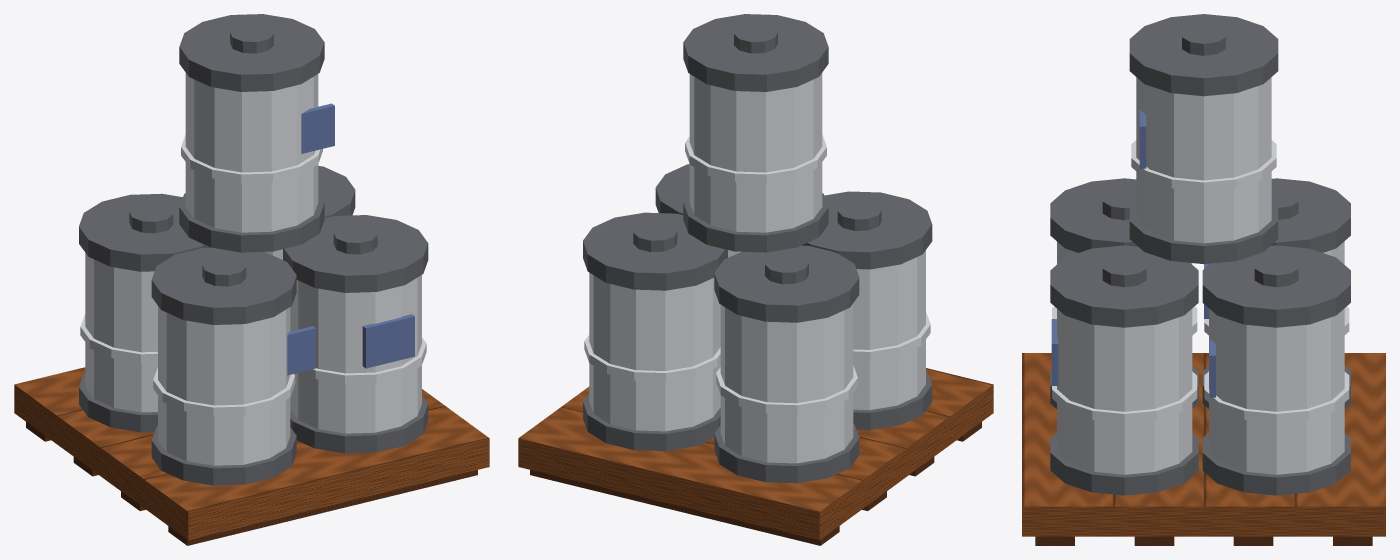
The model's file is keg_stack.glb.
3 renders of one model, left to right at view 1: azimuth 30°, elevation 25°; view 2: azimuth 150°, elevation 25°; view 3: azimuth 270°, elevation 25°, orthographic. The views are drawn at different scales.
Parts seen in each view (by area): view 1: keg-stack-steel, keg-stack-charcoal, keg-stack-timber, keg-stack-indigo, keg-stack-darkwood; view 2: keg-stack-steel, keg-stack-charcoal, keg-stack-timber, keg-stack-darkwood; view 3: keg-stack-steel, keg-stack-charcoal, keg-stack-timber, keg-stack-darkwood, keg-stack-indigo.
Boxes of the visible parts, box(x1,y1,x2,y2) form: keg-stack-steel: box(80, 73, 426, 465); keg-stack-charcoal: box(79, 14, 428, 485); keg-stack-timber: box(14, 367, 489, 540); keg-stack-indigo: box(287, 103, 414, 375); keg-stack-darkwood: box(26, 422, 477, 545); keg-stack-steel: box(584, 73, 930, 463); keg-stack-charcoal: box(583, 14, 932, 483); keg-stack-timber: box(518, 368, 993, 540); keg-stack-darkwood: box(530, 422, 981, 545); keg-stack-steel: box(1052, 77, 1349, 474); keg-stack-charcoal: box(1050, 14, 1350, 495); keg-stack-timber: box(1022, 353, 1385, 536); keg-stack-darkwood: box(1035, 536, 1372, 545); keg-stack-indigo: box(1051, 110, 1215, 397).
Bounding box in the file's own units: 1.1 × 1.46 × 1.1.
5 materials, 2 textured.
